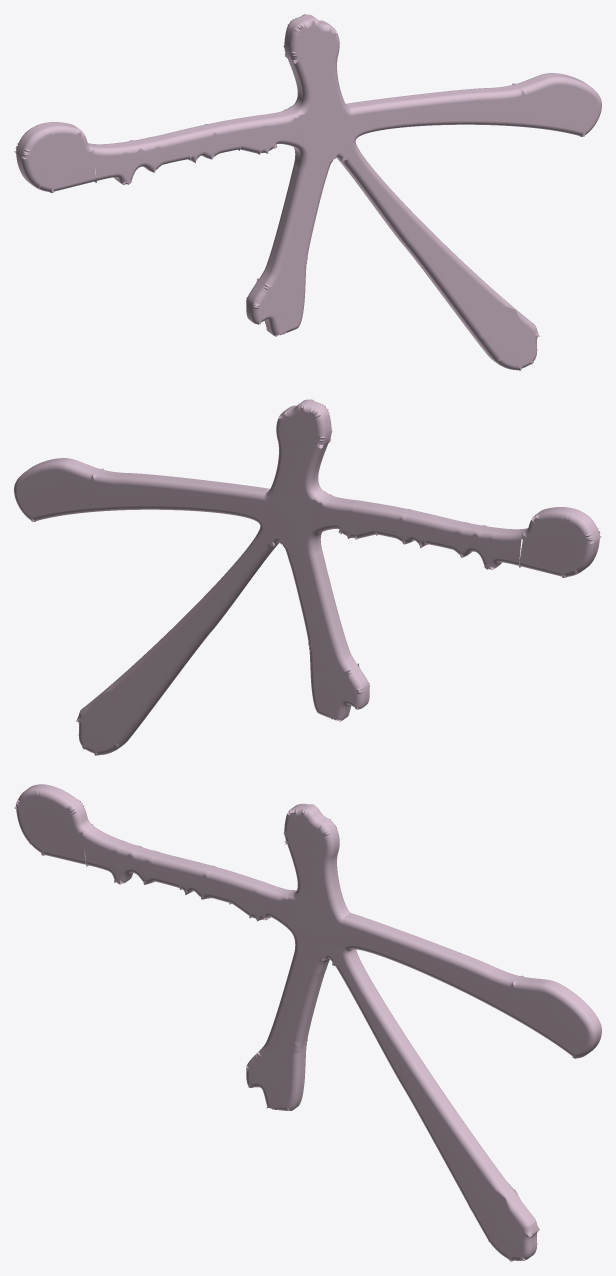
Rendered from noodle.gltf.
3 views of the same model, one above another, from view 1: azimuth 30°, elevation 25°; view 2: azimuth 150°, elevation 25°; view 3: azimuth 330°, elevation 25° (orthographic).
Parts seen in each view (by area): view 1: Path; view 2: Path; view 3: Path.
Boxes of the visible parts, x1,y1,x2,y2 form: Path: [14, 14, 601, 370]; Path: [14, 399, 601, 755]; Path: [14, 784, 601, 1261].
Bounding box in the file's own units: 0.3173 × 0.2098 × 0.01.
